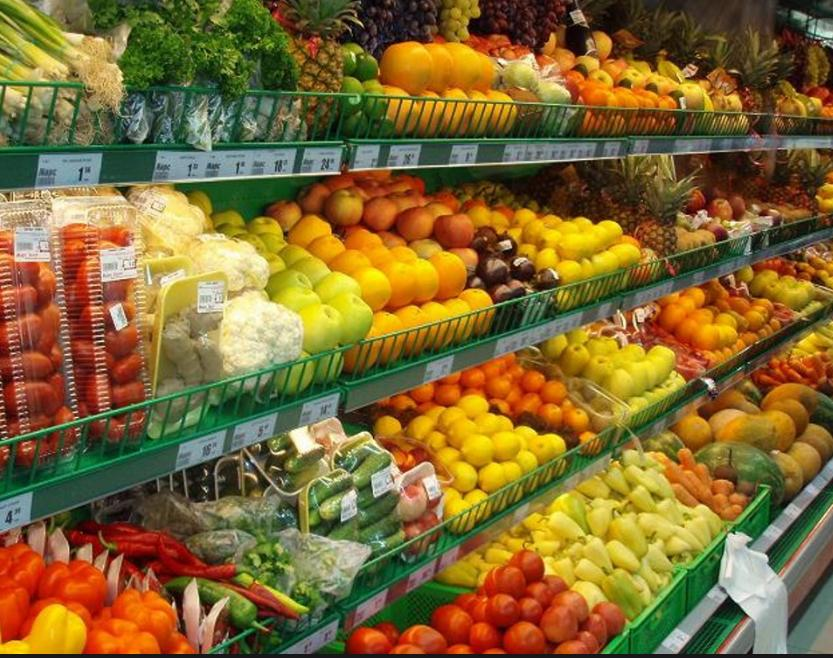cucumber: (244, 439, 406, 585)
ginger: (156, 278, 224, 435)
green apple: (257, 232, 370, 394), (545, 329, 683, 428)
lemon: (393, 403, 564, 532), (514, 207, 639, 296)
mandarin: (404, 355, 603, 428)
orange: (330, 236, 492, 358), (380, 38, 518, 138)
pineapple: (582, 160, 685, 261), (279, 2, 348, 142)
red apple: (311, 168, 465, 244), (680, 188, 749, 223)
sweet pepper: (0, 550, 194, 655)
tomato: (0, 211, 149, 470), (349, 550, 634, 656)
watermelon: (690, 441, 784, 511)
